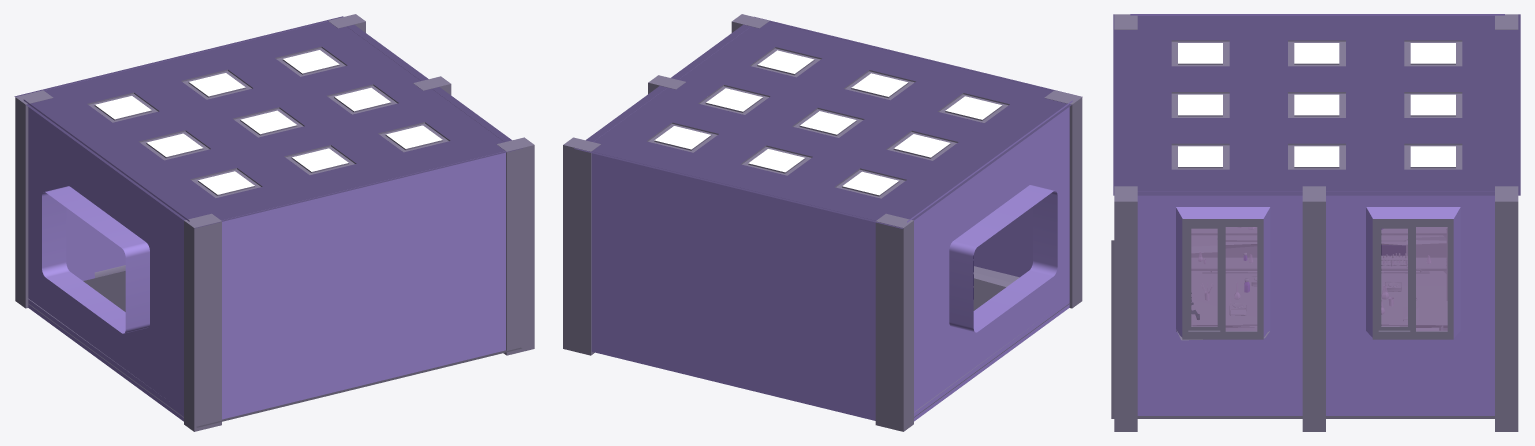
Rendered from 10P_charakterizace-mat_compressed.glb.
3 renders of one model, left to right at view 1: azimuth 30°, elevation 25°; view 2: azimuth 150°, elevation 25°; view 3: azimuth 270°, elevation 25°, orthographic. The views are drawn at different scales.
Visible parts, largest first — view 1: Cube.001, Cube.435, Cube.008, Cube.002; view 2: Cube.001, Cube.435, Cube.008, Cube.002; view 3: Cube.435, Cube.707, Cube.008, Cube.013, Cube.002, Cube.001.
Part boxes in pixels (bbox=[...]): Cube.001: bbox=[23, 21, 505, 421]; Cube.435: bbox=[14, 16, 522, 228]; Cube.008: bbox=[15, 14, 534, 431]; Cube.002: bbox=[28, 271, 521, 427]; Cube.001: bbox=[591, 22, 1072, 421]; Cube.435: bbox=[574, 16, 1082, 228]; Cube.008: bbox=[563, 14, 1082, 431]; Cube.002: bbox=[914, 278, 1069, 417]; Cube.435: bbox=[1113, 14, 1520, 195]; Cube.707: bbox=[1137, 191, 1494, 415]; Cube.008: bbox=[1114, 14, 1518, 431]; Cube.013: bbox=[1191, 227, 1447, 331]; Cube.002: bbox=[1111, 240, 1494, 418]; Cube.001: bbox=[1130, 14, 1504, 15].
Size of the model in its own units: 4.46 by 2.41 by 3.86.
